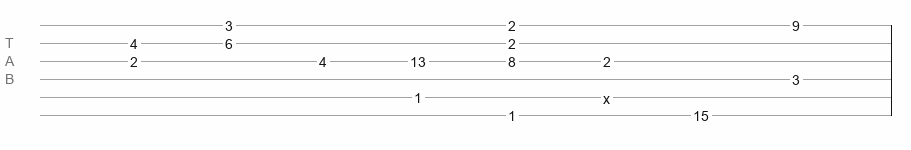1: (414, 90, 422, 100), (508, 108, 516, 118)
13: (410, 54, 426, 64)
15: (693, 108, 709, 118)
2: (130, 54, 138, 64), (508, 36, 516, 46), (508, 18, 516, 28), (603, 54, 611, 64)
3: (225, 18, 233, 28), (792, 72, 800, 82)
4: (130, 36, 138, 46), (319, 54, 327, 64)
6: (225, 36, 233, 46)
8: (508, 54, 516, 64)
9: (792, 18, 800, 28)
x: (603, 91, 610, 99)
